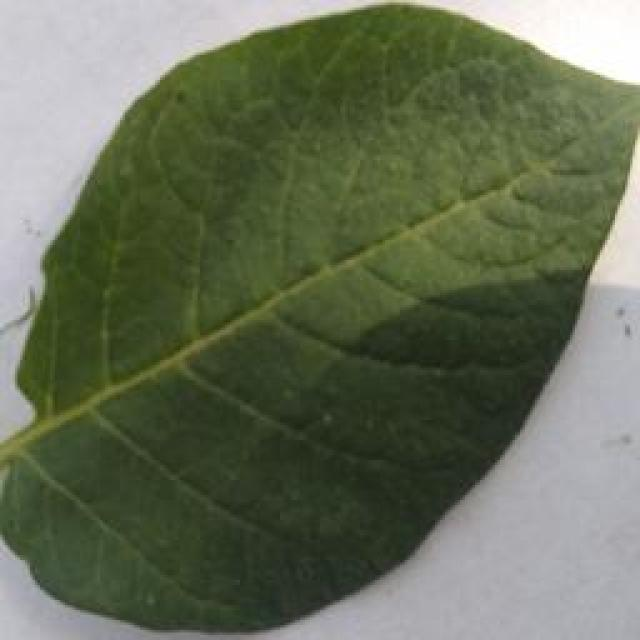Potato_Healthy: (9, 5, 638, 629), (482, 1, 636, 105)
